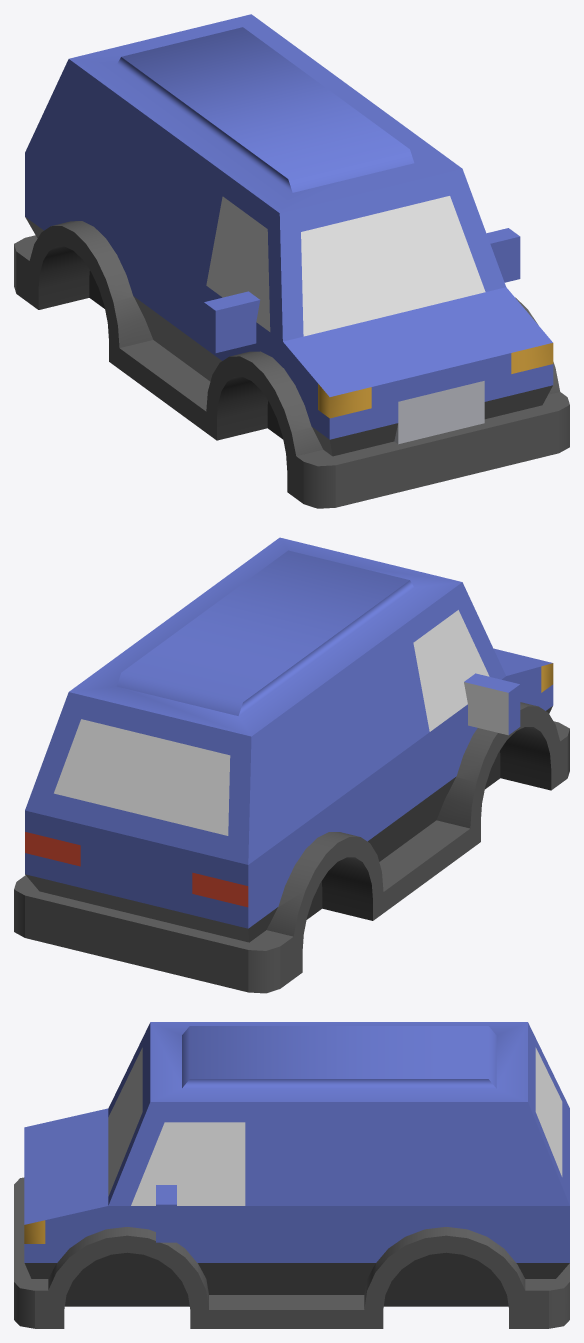
Rendered from van.fbx.
3 views of the same model, one above another, from view 1: azimuth 30°, elevation 25°; view 2: azimuth 150°, elevation 25°; view 3: azimuth 270°, elevation 25° (orthographic). The views are drawn at different scales.
Parts seen in each view (by area): view 1: body; view 2: body; view 3: body.
Boxes of the visible parts, <box> form: body: <box>14,14,569,508</box>; body: <box>14,537,569,993</box>; body: <box>14,1022,569,1328</box>.
Size of the model in its own units: 1.5 by 1.15 by 2.65.
